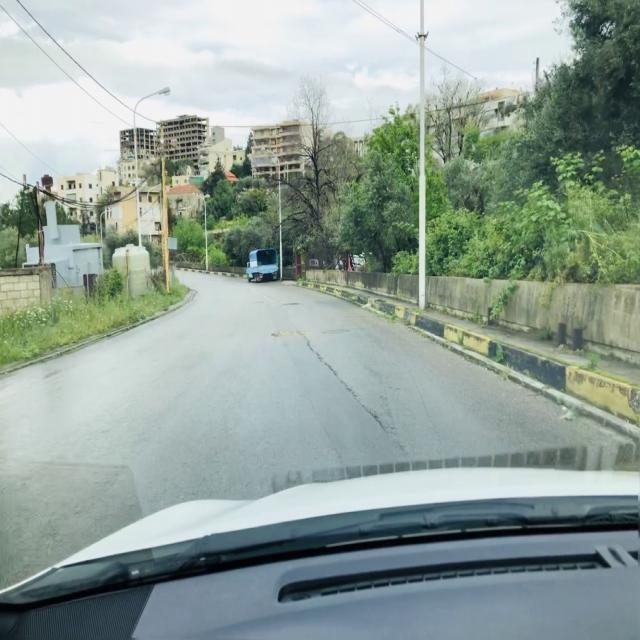Pothole: (269, 328, 311, 341)
